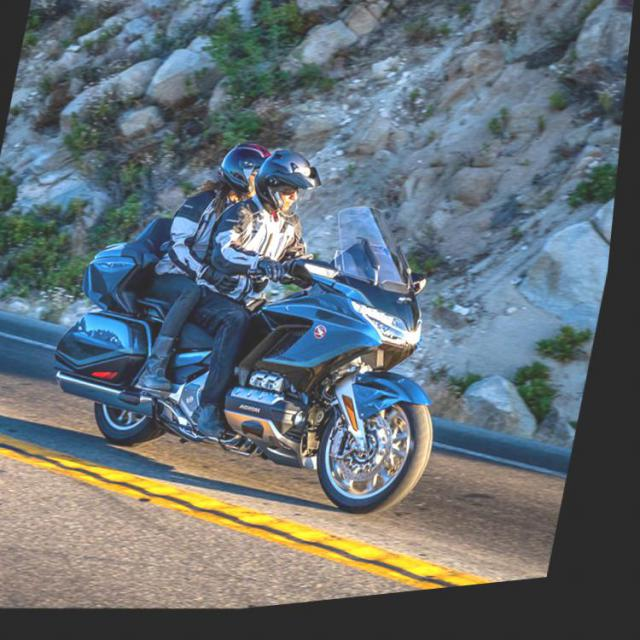Gold Wing: (31, 168, 490, 556)
